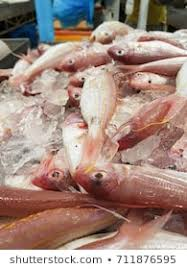Ikan Kerisi: (64, 155, 187, 207), (80, 66, 119, 165), (106, 36, 187, 65)
